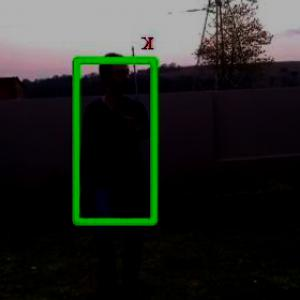takeoff-hand: (111, 95, 148, 136)
